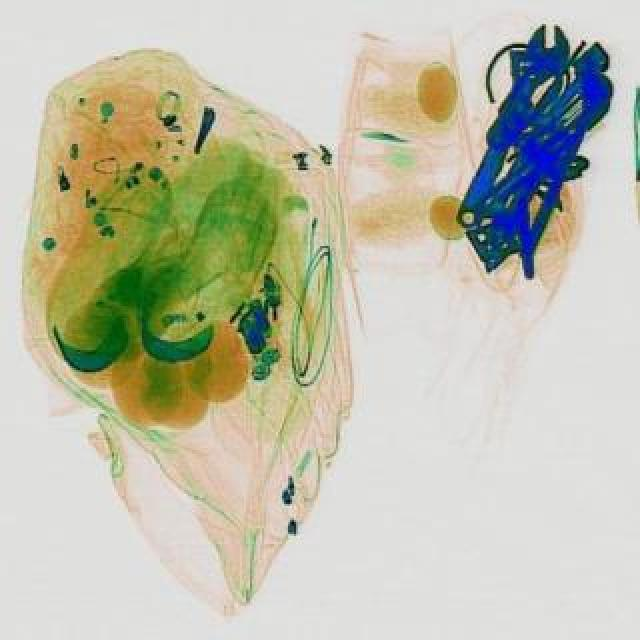scissors: (440, 20, 580, 240)
